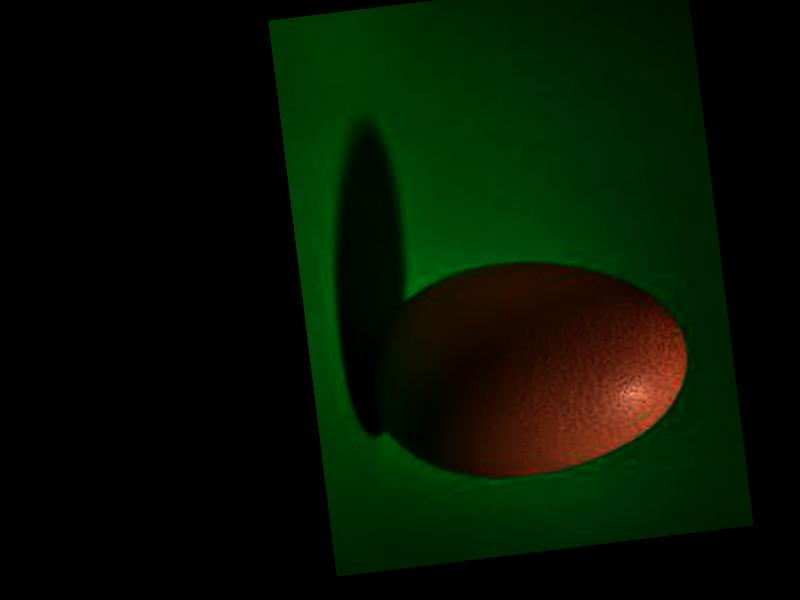Eggs: (355, 243, 698, 494)
